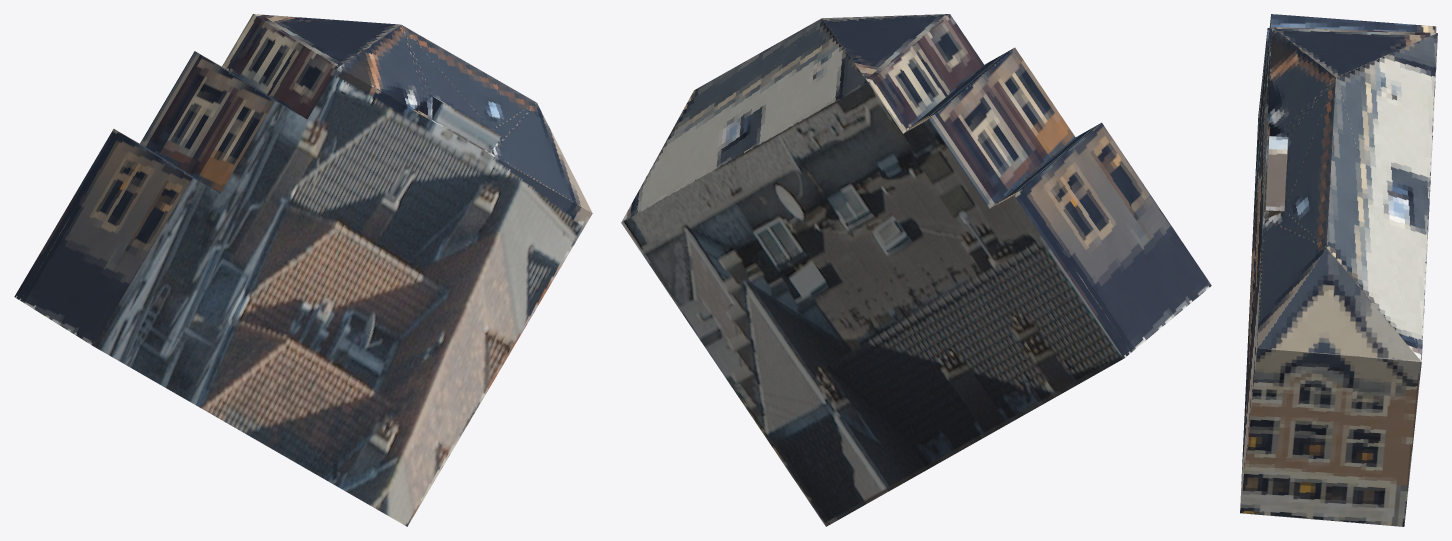
3 views of the same model, side by side, from view 1: azimuth 30°, elevation 25°; view 2: azimuth 150°, elevation 25°; view 3: azimuth 270°, elevation 25° (orthographic).
Parts seen in each view (by area): view 1: BAG_0599100000671705 (×4); view 2: BAG_0599100000671705 (×3); view 3: BAG_0599100000671705 (×5).
Part boxes in pixels (left/top/right/bottom): BAG_0599100000671705 (×4): left=14, top=14, right=592, bottom=526; BAG_0599100000671705 (×3): left=621, top=14, right=1211, bottom=526; BAG_0599100000671705 (×5): left=1240, top=14, right=1437, bottom=526.
Size of the model in its own units: 19.03 by 17.11 by 6.5.
5 materials, 5 textured.
